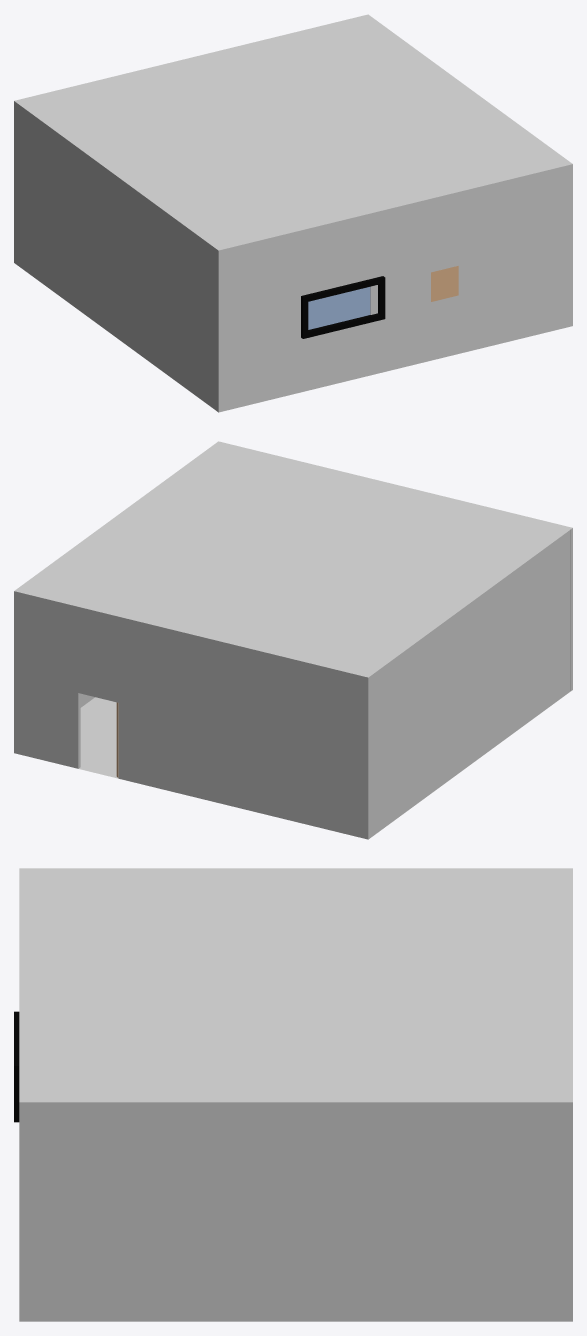
Rendered from Level Design, Room.fbx.
3 views of the same model, one above another, from view 1: azimuth 30°, elevation 25°; view 2: azimuth 150°, elevation 25°; view 3: azimuth 270°, elevation 25° (orthographic). The views are drawn at different scales.
Visible parts, largest first — view 1: Cube.001, Cube.013, Cube.014, Cube.015; view 2: Cube.001, Plane; view 3: Cube.001, Cube.013.
Part boxes in pixels (x1,y1,x2,y2): Cube.001: [14, 14, 572, 412]; Cube.013: [301, 276, 385, 338]; Cube.014: [308, 287, 370, 329]; Cube.015: [431, 266, 458, 301]; Cube.001: [14, 441, 572, 839]; Plane: [78, 696, 563, 778]; Cube.001: [19, 868, 572, 1321]; Cube.013: [14, 1011, 19, 1122].
Size of the model in its own units: 1781 by 778 by 1798.
